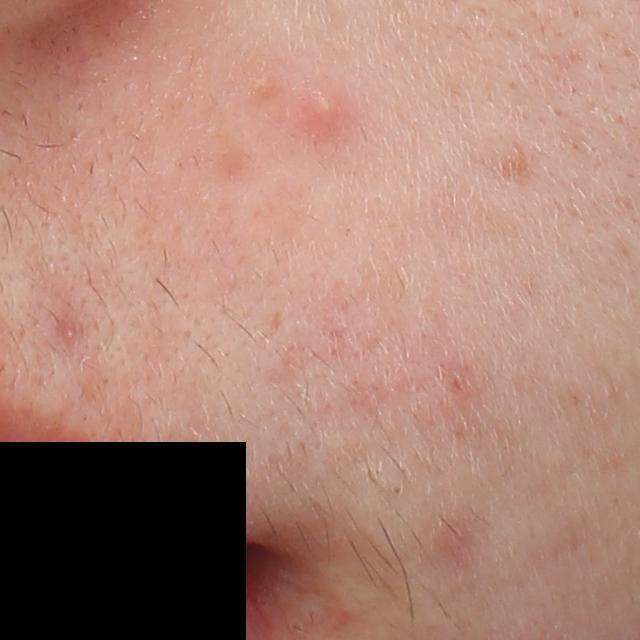papule: (61, 324, 77, 342)
